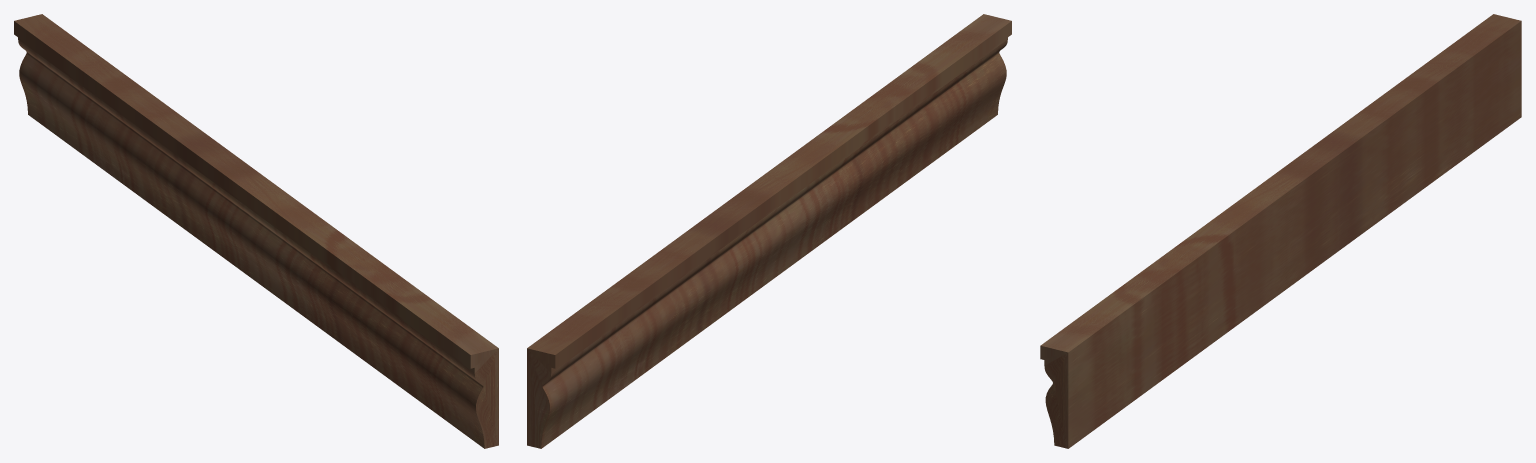
Rendered from baseboardTop.fbx.
3 renders of one model, left to right at view 1: azimuth 30°, elevation 25°; view 2: azimuth 150°, elevation 25°; view 3: azimuth 330°, elevation 25°, orthographic.
Visible parts, largest first — view 1: Cube.010; view 2: Cube.010; view 3: Cube.010.
Part boxes in pixels (x1,y1,x2,y2): Cube.010: [14, 14, 498, 448]; Cube.010: [527, 14, 1011, 448]; Cube.010: [1040, 14, 1521, 448].
Size of the model in its own units: 1000 by 117 by 35.68.
1 material, 1 textured.
